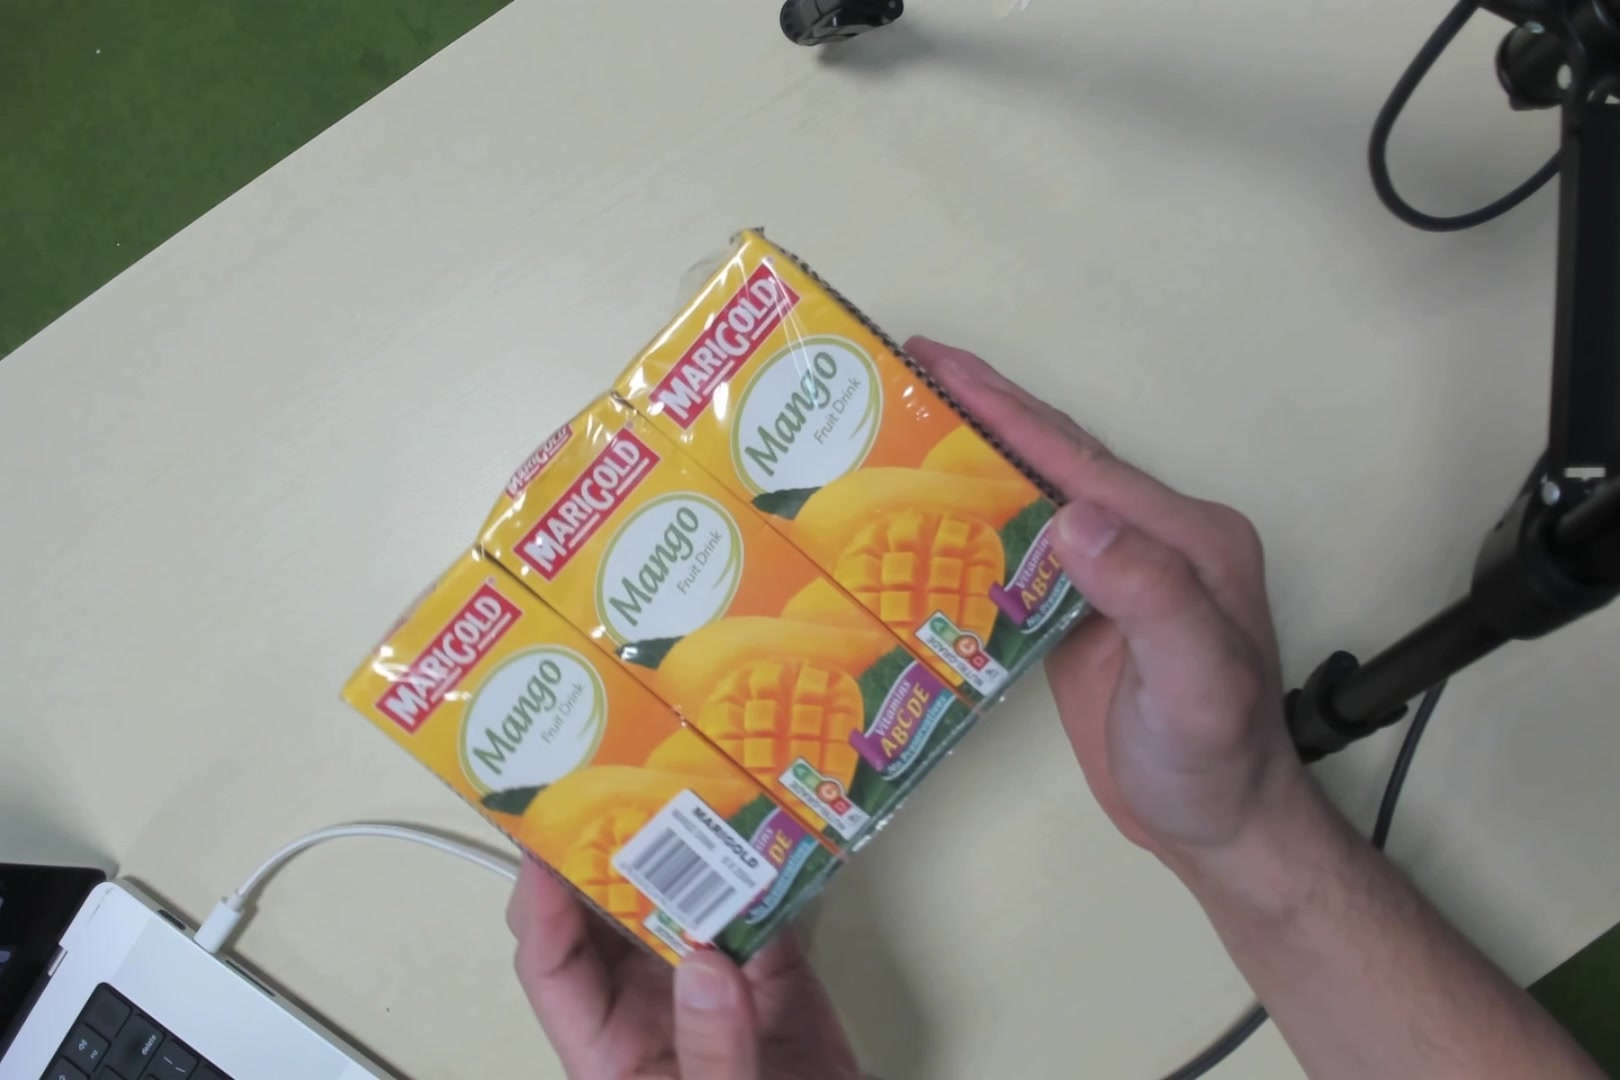FruitJuice_700-799g_Halal_NonHealthy: (450, 253, 1079, 969)
